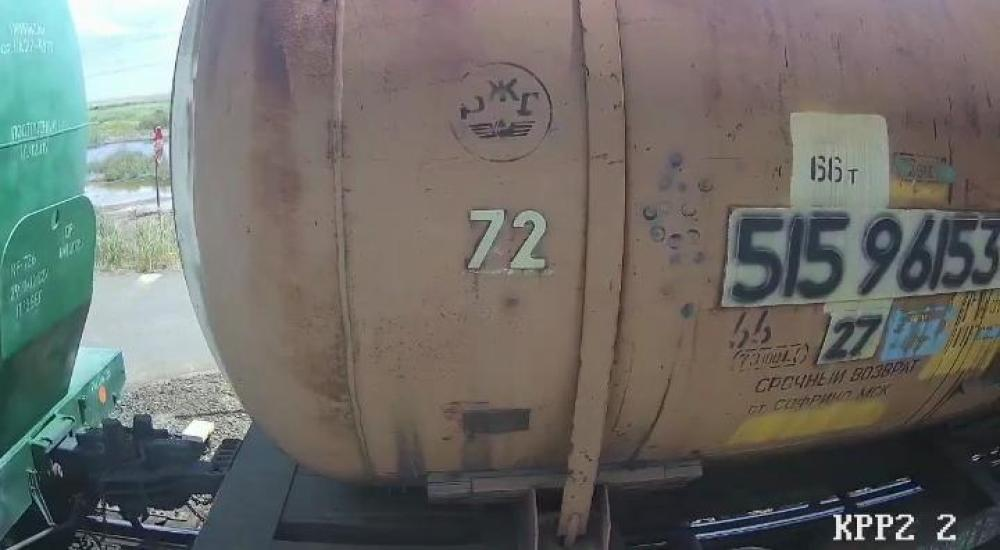Wagon-number: (726, 210, 1000, 307)
